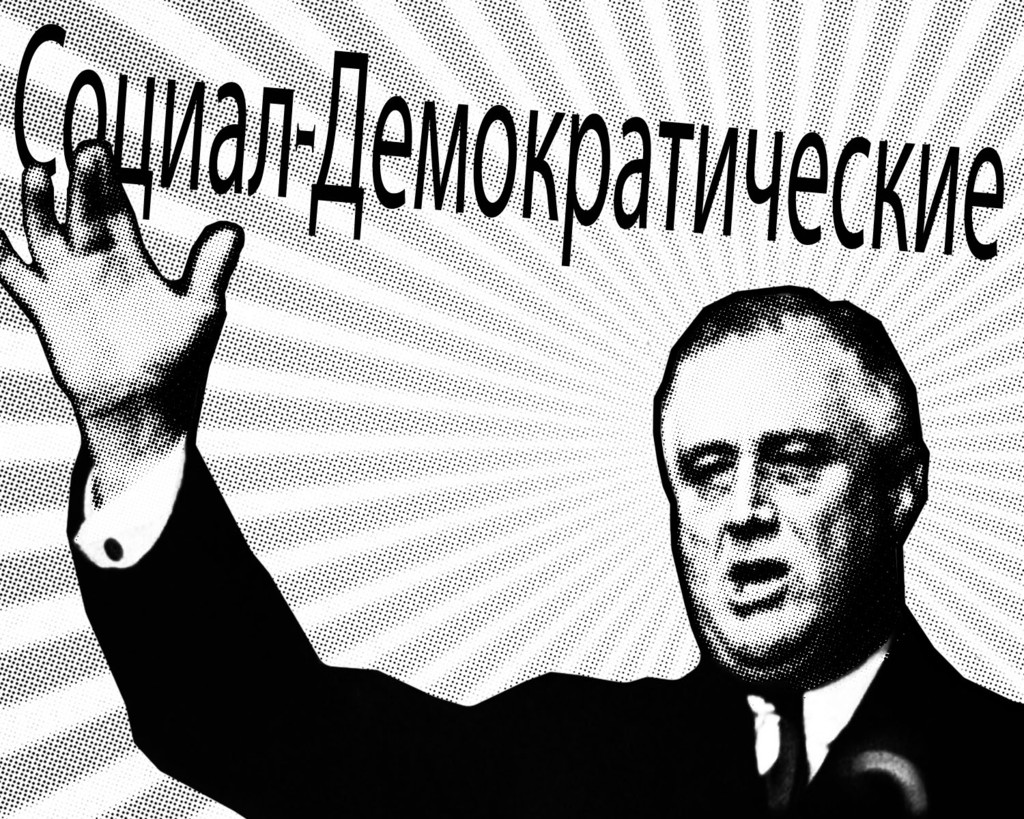Human_hand: (35, 169, 225, 517)
